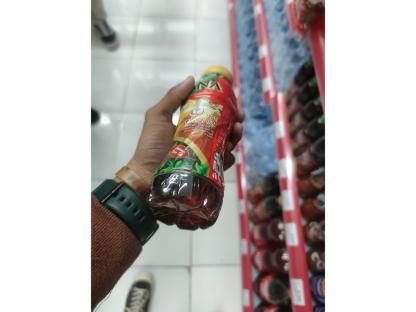Plastic Bottle: (160, 56, 248, 238)
